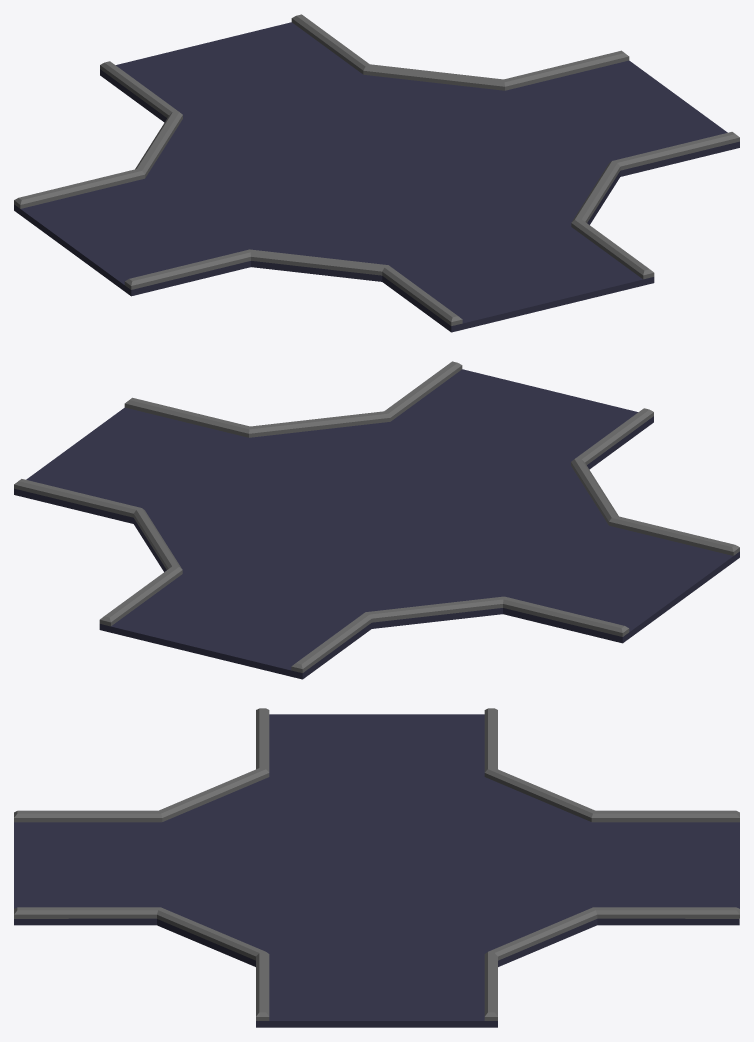
File: Road3.fbx
3 renders of one model, top to bottom at view 1: azimuth 30°, elevation 25°; view 2: azimuth 150°, elevation 25°; view 3: azimuth 270°, elevation 25°, orthographic. The views are drawn at different scales.
Parts seen in each view (by area): view 1: Road_3; view 2: Road_3; view 3: Road_3.
Boxes of the visible parts, box(x1,y1,x2,y2) form: Road_3: box(14, 14, 739, 332); Road_3: box(14, 361, 739, 679); Road_3: box(14, 708, 739, 1027).
Size of the model in its own units: 1639 by 34.2 by 1639.
